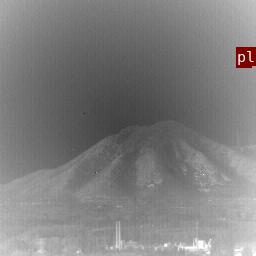plane: (236, 47, 251, 67)
